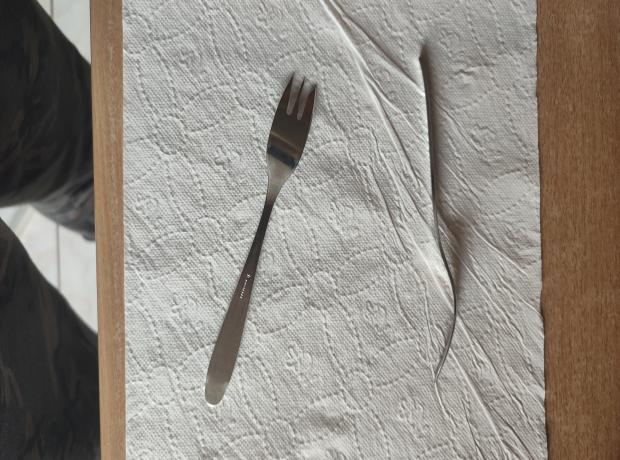metal: (195, 72, 318, 404), (419, 55, 457, 385)
